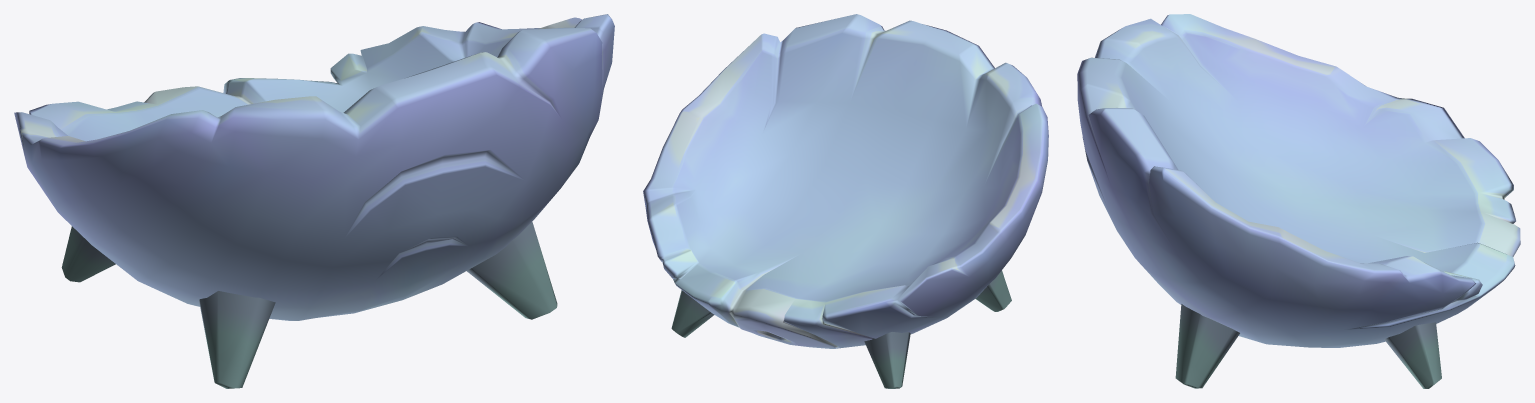
File: CharSkyKid_Prop_AP32PearlCouch.glb
3 renders of one model, left to right at view 1: azimuth 30°, elevation 25°; view 2: azimuth 150°, elevation 25°; view 3: azimuth 270°, elevation 25°, orthographic. The views are drawn at different scales.
Parts seen in each view (by area): view 1: CharSkyKid_Prop_AP32PearlCouch; view 2: CharSkyKid_Prop_AP32PearlCouch; view 3: CharSkyKid_Prop_AP32PearlCouch.
Boxes of the visible parts, x1,y1,x2,y2 form: CharSkyKid_Prop_AP32PearlCouch: (14, 14, 614, 388); CharSkyKid_Prop_AP32PearlCouch: (643, 14, 1048, 388); CharSkyKid_Prop_AP32PearlCouch: (1077, 14, 1520, 388).
Size of the model in its own units: 2.34 by 1.45 by 2.24.
1 material, 1 textured.
